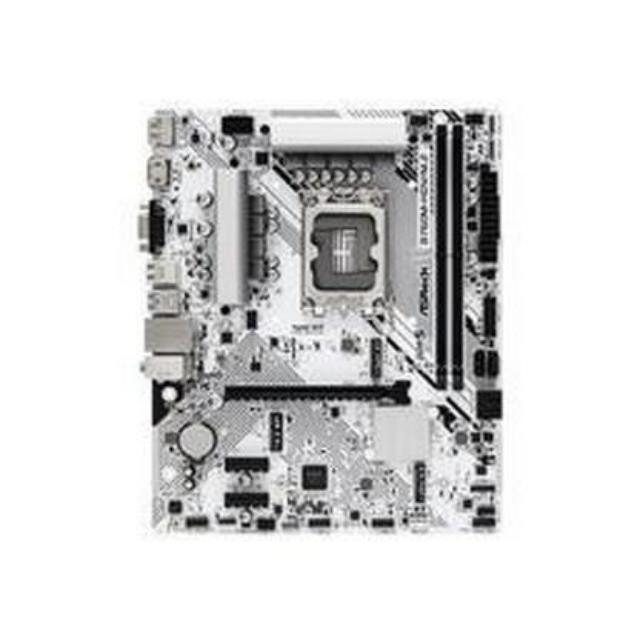Mainboard: (140, 104, 502, 536)
